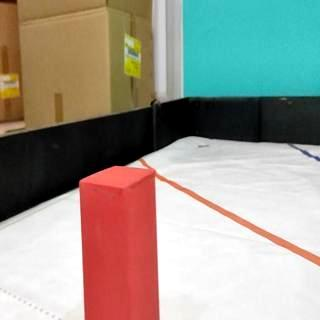redbox: (79, 165, 159, 320)
